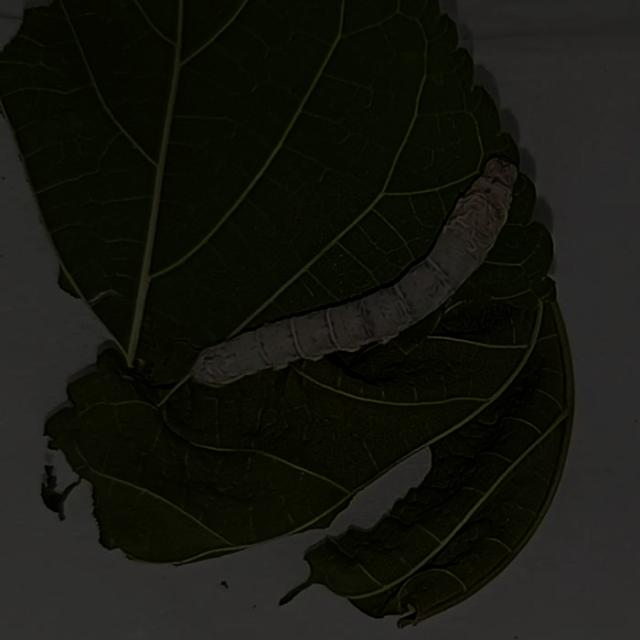Healthy: (157, 140, 560, 404)
